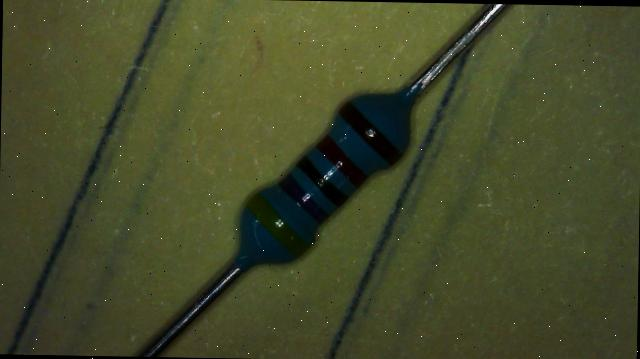black: (295, 156, 346, 204)
brown: (338, 100, 403, 164)
red: (315, 134, 369, 186)
resistor: (185, 53, 455, 306)
violet: (278, 174, 328, 222)
yellow: (246, 193, 312, 256)
